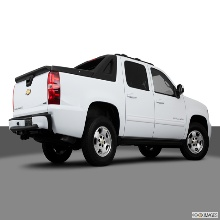no damage: (9, 53, 211, 166)
